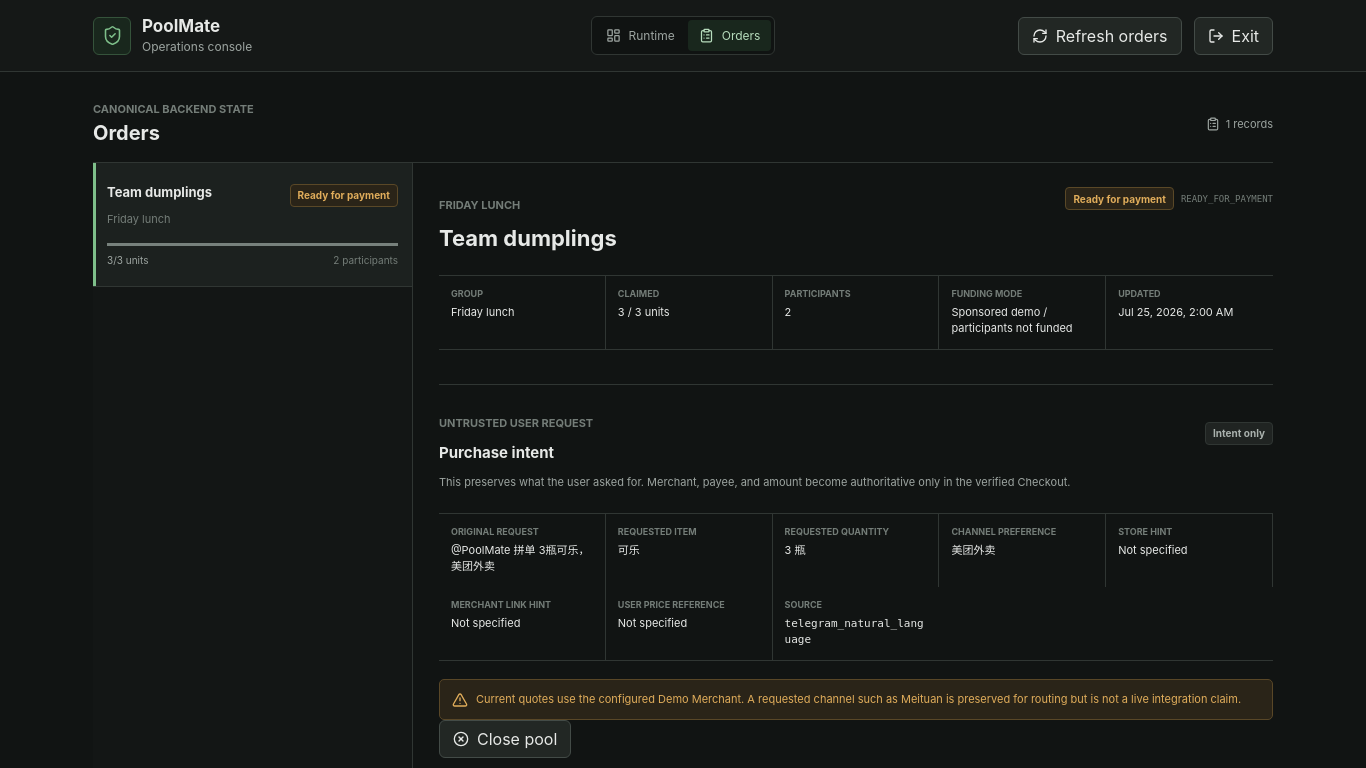
it: orders console › closes a pool only after explicit confirmation and hides payment actions
Click the button "Close pool".
click(505, 739)  # box [439,720,571,758]
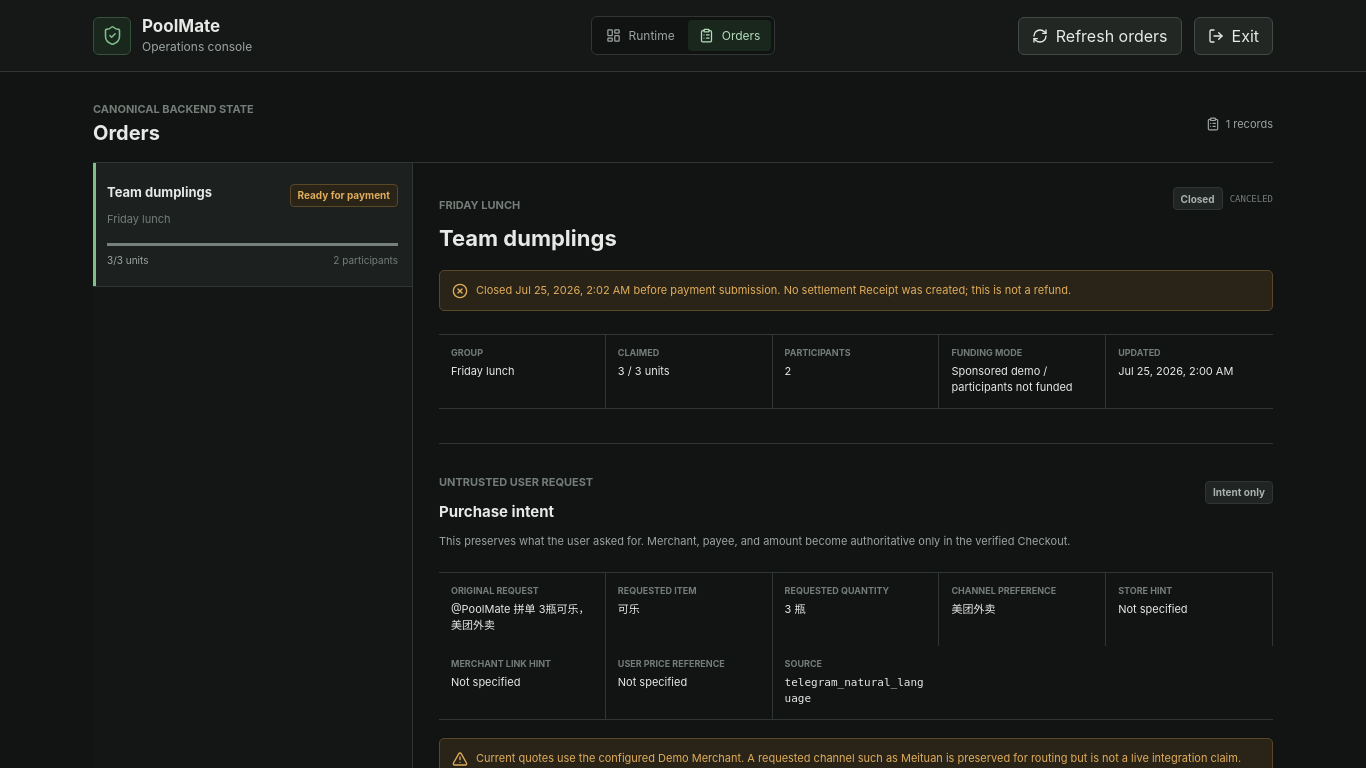
Now the text "No settlement Receipt was created" is shown, box [630,283,1071,297]
Now the button "Close pool" is gone
